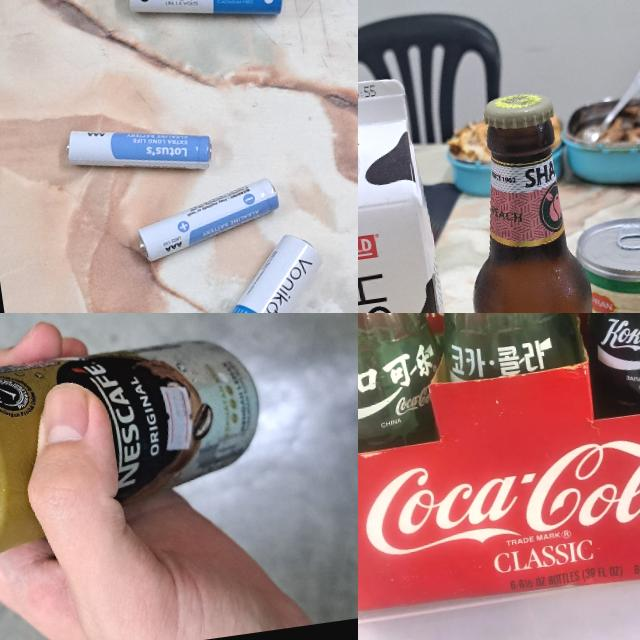aba de lata: (618, 218, 640, 254)
bateria: (128, 173, 288, 264), (176, 227, 341, 313), (63, 109, 217, 188), (121, 0, 287, 34)
caixinha: (358, 72, 476, 313)
garrafa de vidro: (444, 89, 619, 313), (358, 313, 454, 459), (407, 313, 586, 386)
lata: (0, 333, 277, 576), (573, 209, 640, 313)
